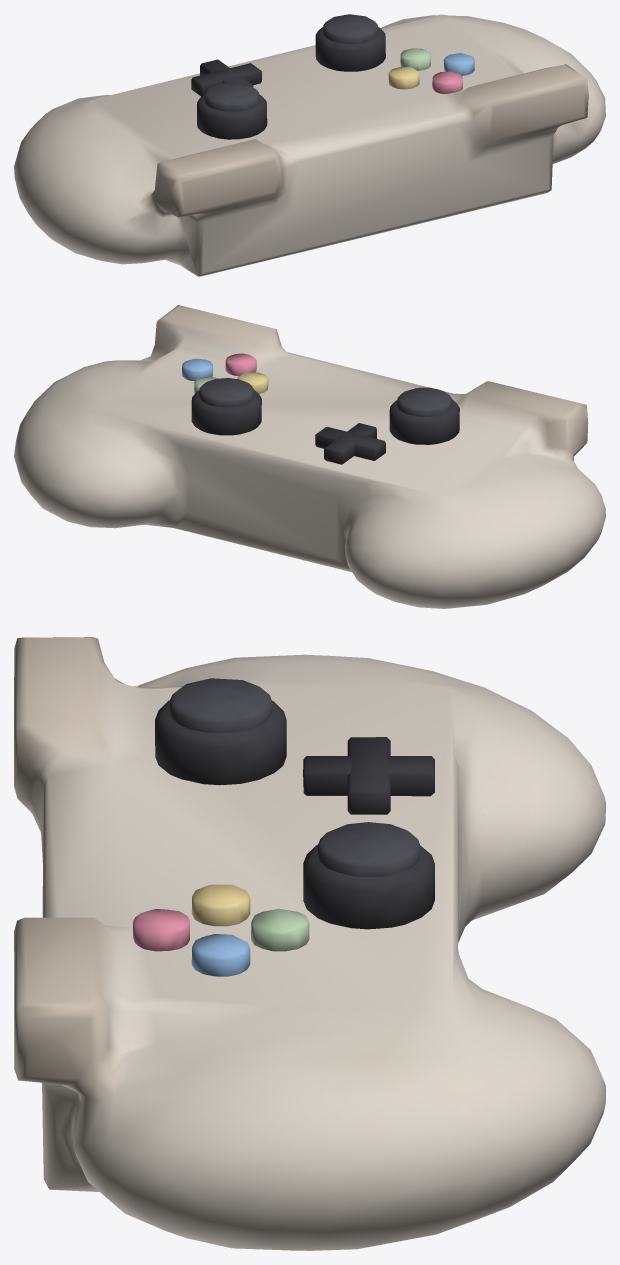
The model's file is keepsake-game-controller.glb.
3 views of the same model, one above another, from view 1: azimuth 30°, elevation 25°; view 2: azimuth 150°, elevation 25°; view 3: azimuth 270°, elevation 25° (orthographic). The views are drawn at different scales.
Visible parts, largest first — view 1: keepsake-game-controller; view 2: keepsake-game-controller; view 3: keepsake-game-controller.
Part boxes in pixels (bbox=[...]): keepsake-game-controller: bbox=[14, 14, 605, 276]; keepsake-game-controller: bbox=[14, 305, 605, 608]; keepsake-game-controller: bbox=[14, 637, 605, 1250].
Bounding box in the file's own units: 0.15 × 0.0388 × 0.0758.
Materials: 1 (1 with a texture image).
